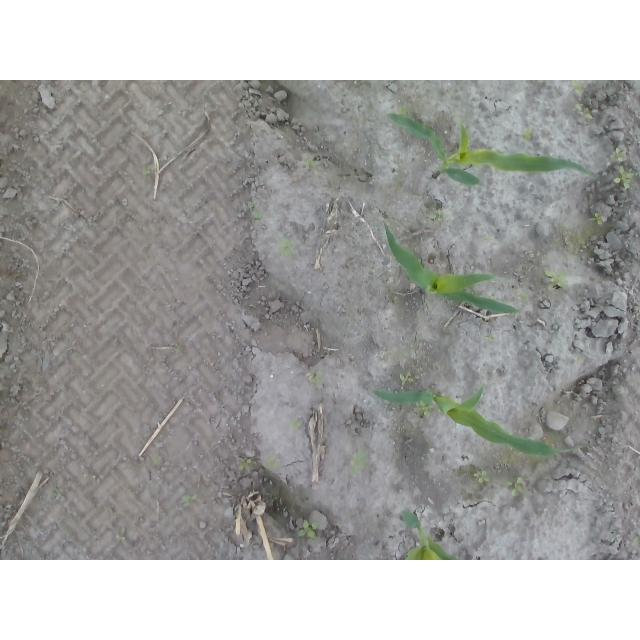Maize: (369, 385, 581, 460), (386, 113, 600, 187), (380, 221, 521, 318), (398, 505, 458, 559)
Weeds: (544, 270, 569, 289), (614, 164, 633, 188), (352, 447, 369, 473), (296, 519, 318, 538), (246, 199, 263, 219), (576, 102, 593, 121), (415, 401, 434, 417), (511, 477, 525, 496), (474, 468, 490, 484), (279, 240, 294, 256), (239, 456, 254, 472), (571, 81, 586, 96), (399, 371, 414, 385), (429, 209, 444, 223), (305, 159, 324, 169), (305, 371, 320, 383), (268, 457, 281, 469), (615, 147, 625, 162), (181, 494, 193, 506), (523, 128, 534, 141), (289, 417, 303, 427), (594, 212, 603, 225), (141, 167, 151, 177)
